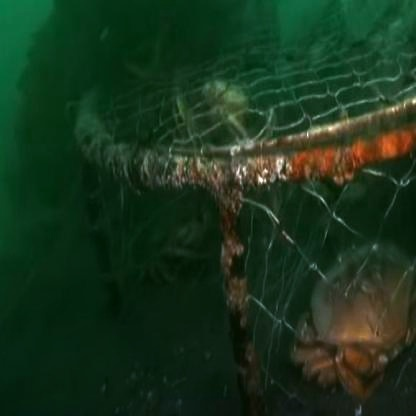net: (85, 78, 391, 231)
